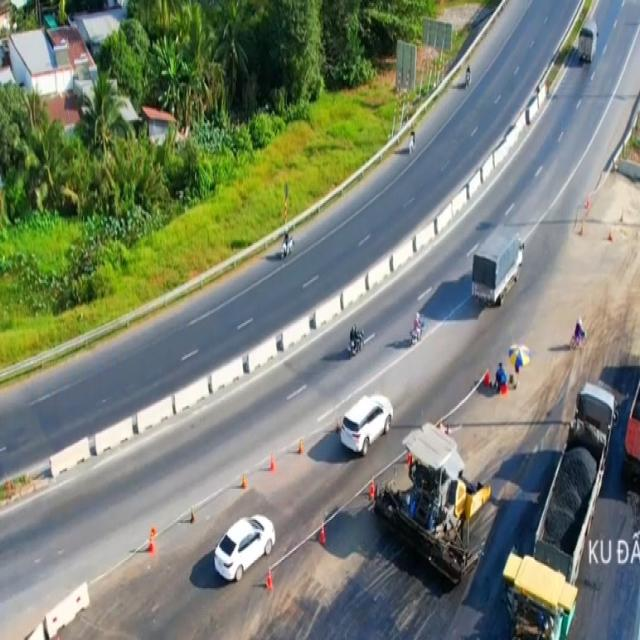car: (213, 514, 279, 588), (338, 396, 393, 464)
motorbike: (347, 319, 363, 357), (280, 230, 296, 260), (410, 310, 424, 342)
truck: (470, 224, 525, 304), (577, 16, 598, 66)
